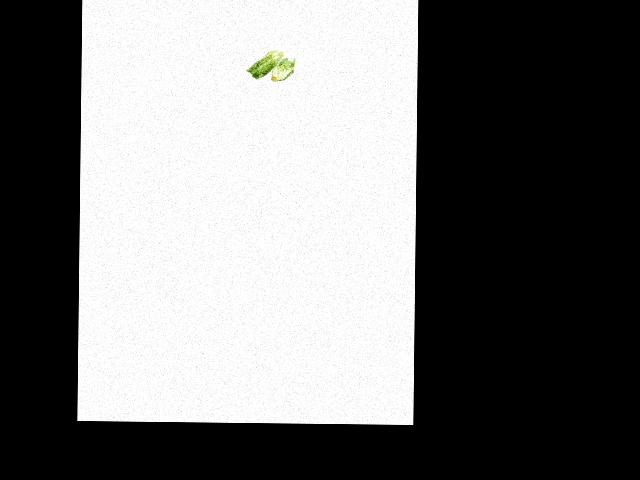lettuce: (248, 48, 297, 87)
